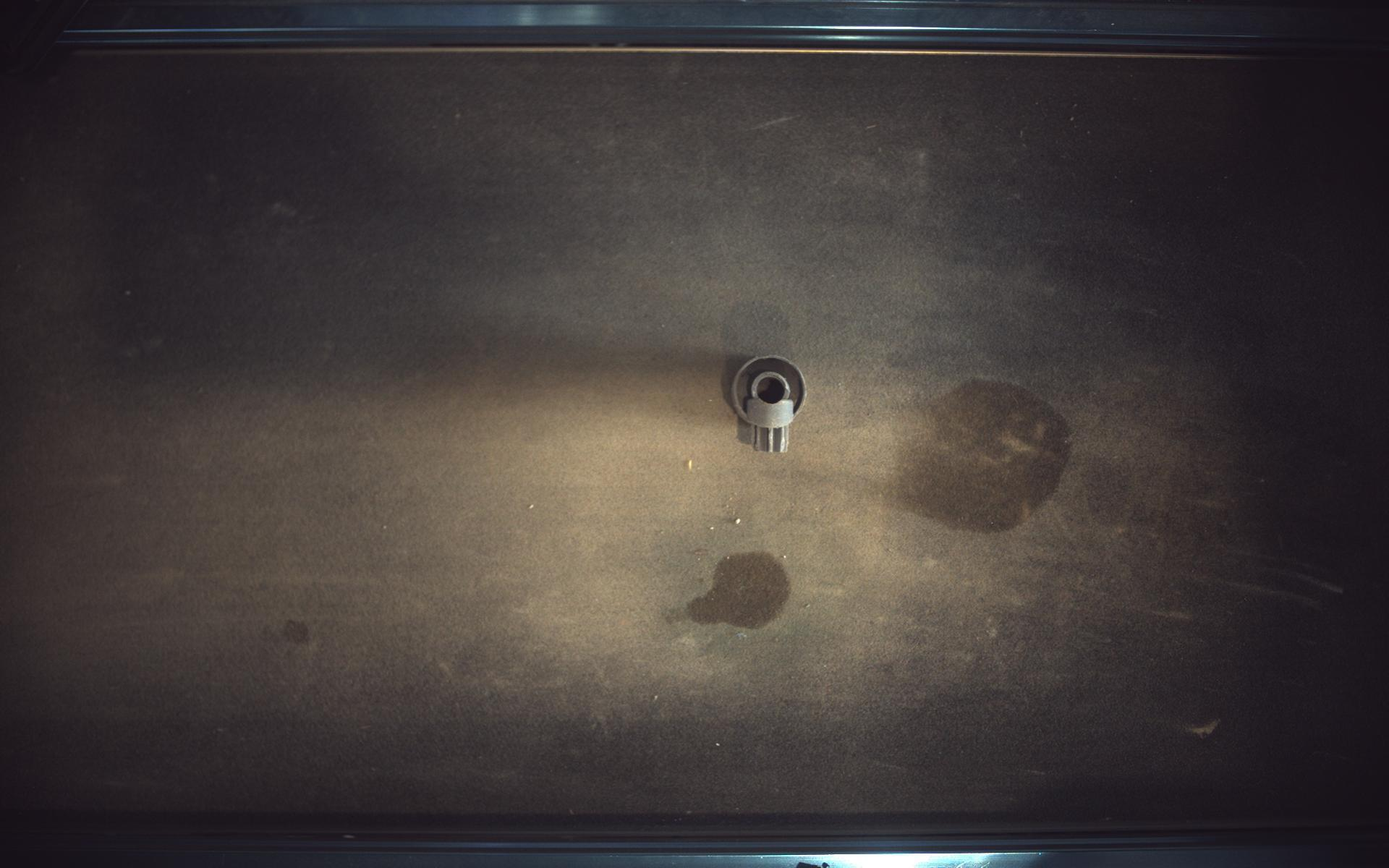plastic: (733, 355, 807, 453)
